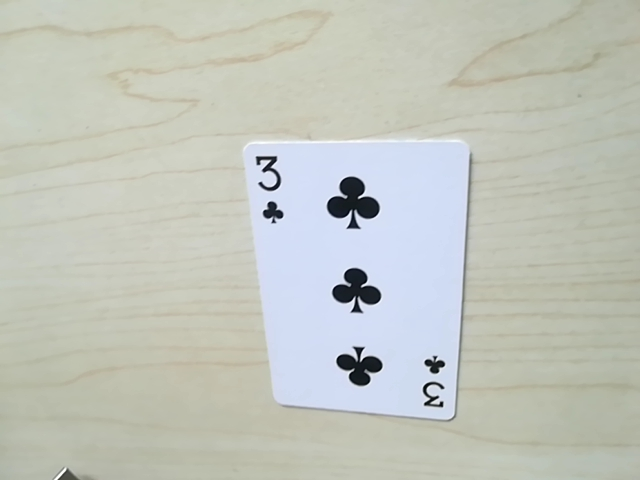mh 3: (248, 149, 288, 228), (417, 349, 452, 418)
